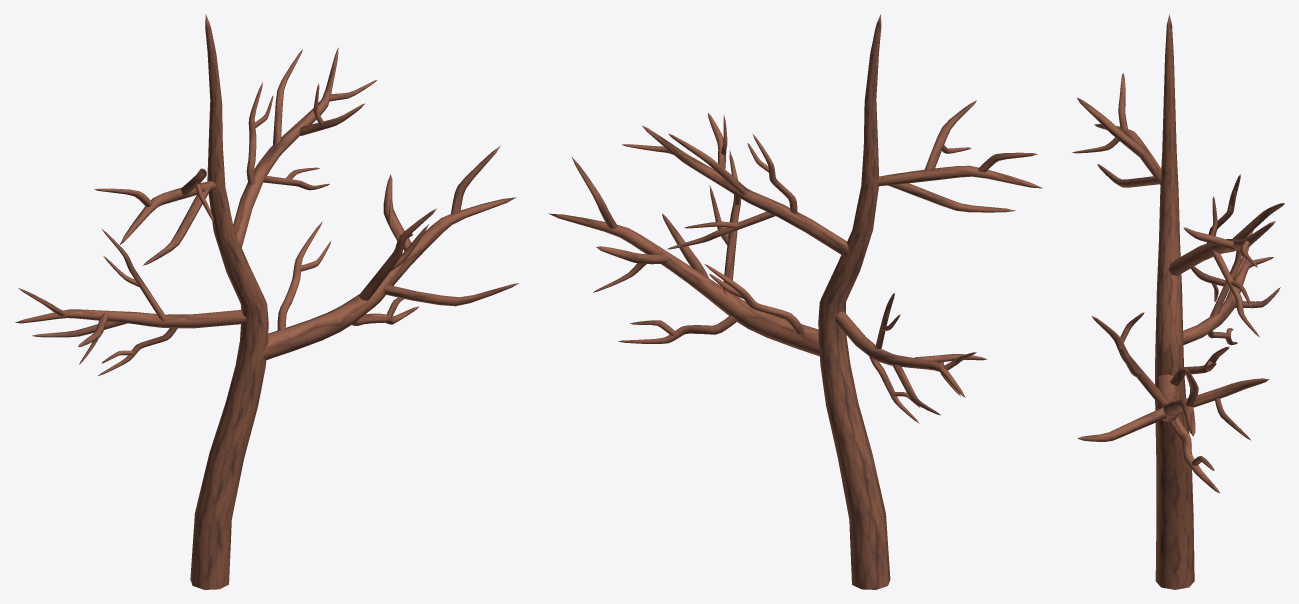
The model's file is DeadTree_3.gltf.
3 renders of one model, left to right at view 1: azimuth 30°, elevation 25°; view 2: azimuth 150°, elevation 25°; view 3: azimuth 270°, elevation 25°, orthographic.
Parts seen in each view (by area): view 1: DeadTree_3; view 2: DeadTree_3; view 3: DeadTree_3.
Part boxes in pixels (x1=…): DeadTree_3: x1=15, y1=14, x2=518, y2=589; DeadTree_3: x1=548, y1=14, x2=1042, y2=589; DeadTree_3: x1=1072, y1=14, x2=1284, y2=589.
Bounding box in the file's own units: 4.22 × 4.96 × 1.7.
1 material, 1 textured.
